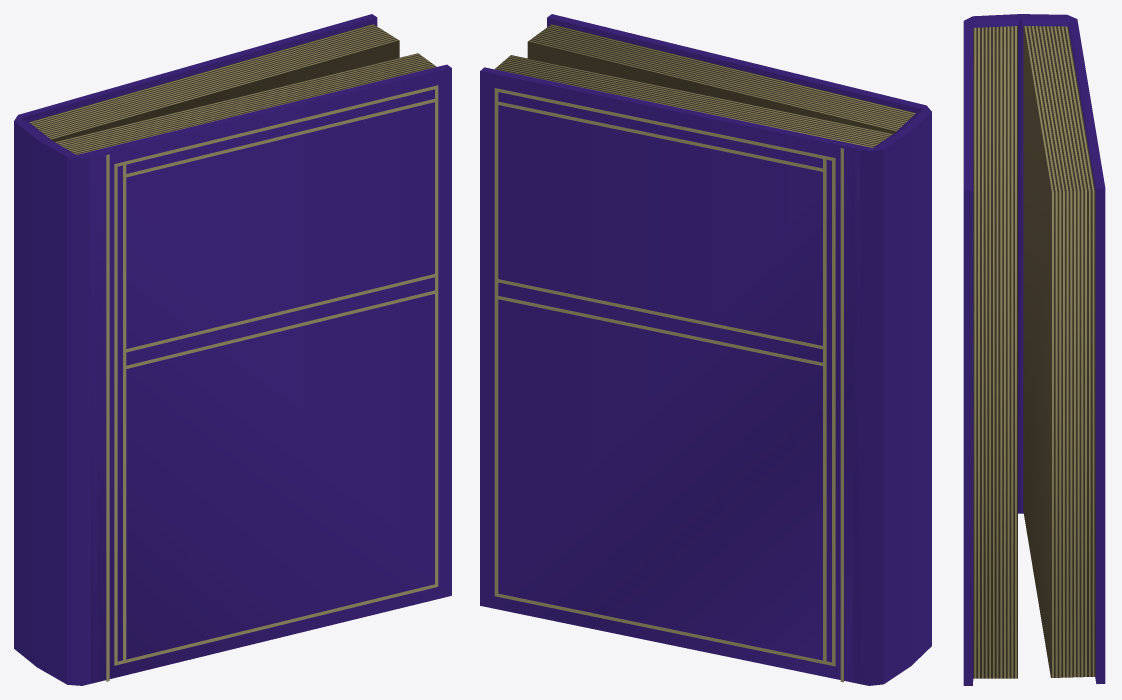
File: ps2_save-icons_edelblume.glb
The picture shows the model from 3 angles, left to right: view 1: azimuth 30°, elevation 25°; view 2: azimuth 150°, elevation 25°; view 3: azimuth 270°, elevation 25°; orthographic projection. The views are drawn at different scales.
Parts seen in each view (by area): view 1: SAVE.ICO; view 2: SAVE.ICO; view 3: SAVE.ICO.
Boxes of the visible parts, left/top/right/bottom form: SAVE.ICO: left=14, top=14, right=451, bottom=685; SAVE.ICO: left=480, top=14, right=931, bottom=685; SAVE.ICO: left=963, top=14, right=1105, bottom=685.
Size of the model in its own units: 2.56 by 3.36 by 0.9067.
1 material, 1 textured.
